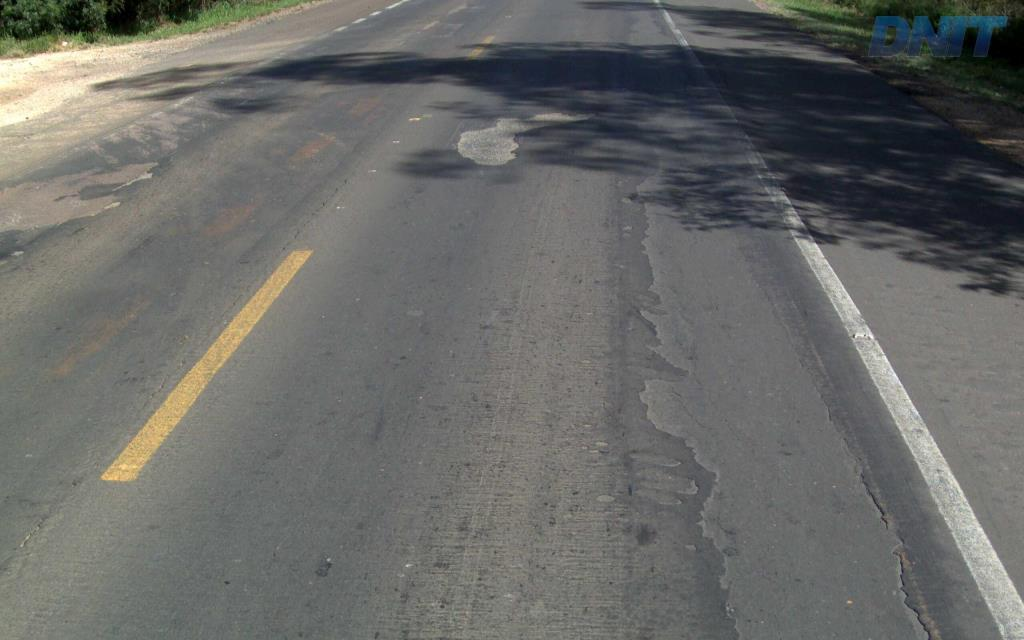pothole: (627, 95, 939, 637), (445, 98, 605, 182)
